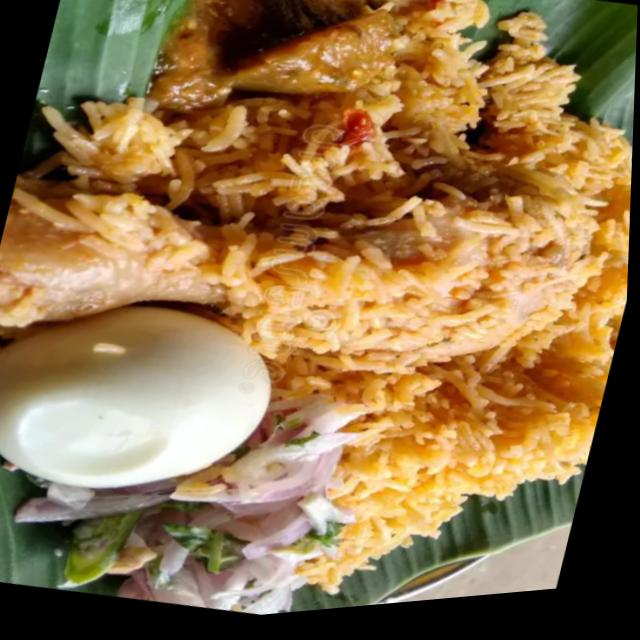BIRIYANI: (0, 0, 632, 590)
EGG: (0, 305, 271, 486)
